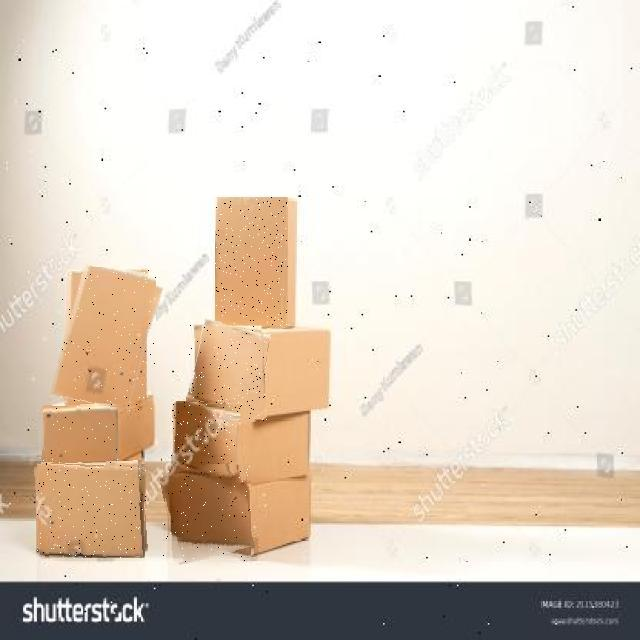BoxFace: (58, 267, 156, 411), (36, 462, 146, 558), (215, 197, 288, 326), (163, 464, 251, 562), (188, 321, 267, 422), (171, 402, 237, 490), (42, 406, 118, 465)
